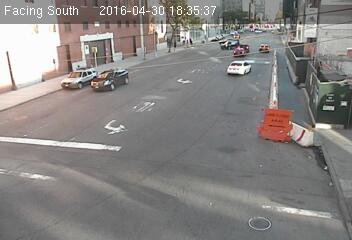neg: (5, 73, 35, 113), (248, 93, 274, 128), (162, 129, 188, 164), (308, 126, 334, 161), (272, 33, 297, 66), (112, 27, 137, 60), (53, 71, 77, 102), (155, 71, 176, 98), (223, 56, 243, 83), (69, 115, 89, 142), (230, 142, 249, 167), (237, 193, 256, 217), (88, 154, 106, 178), (137, 188, 152, 208)
